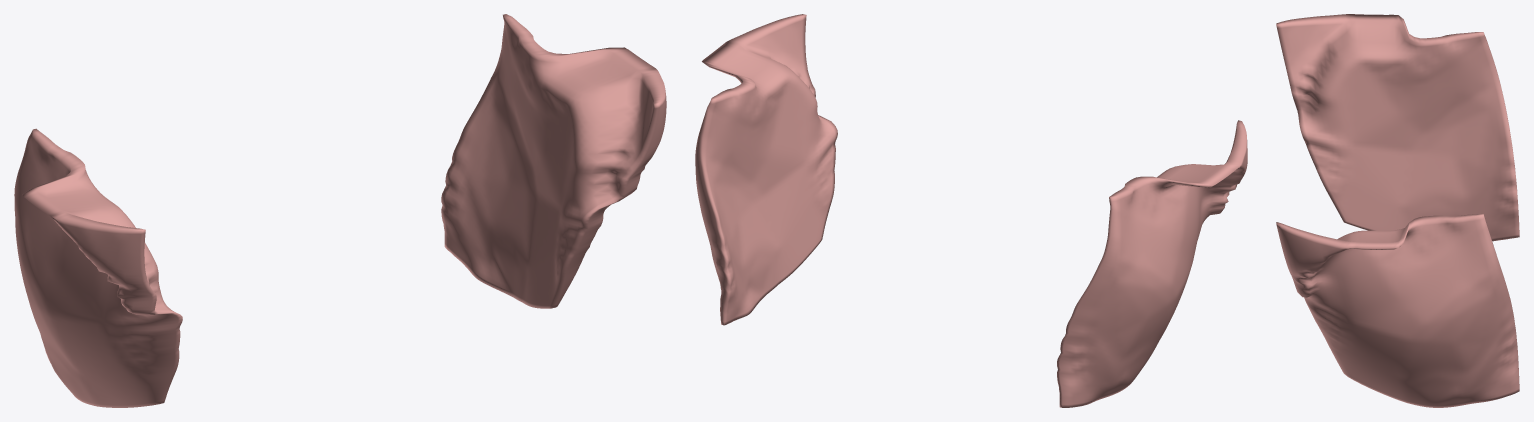
Rendered from masseter.glb.
The picture shows the model from 3 angles, left to right: view 1: azimuth 30°, elevation 25°; view 2: azimuth 150°, elevation 25°; view 3: azimuth 270°, elevation 25°; orthographic projection. The views are drawn at different scales.
Visible parts, largest first — view 1: masseter_L, masseter_R; view 2: masseter_L, masseter_R; view 3: masseter_R, masseter_L.
Boxes of the visible parts, x1,y1,x2,y2 form: masseter_L: [441, 14, 666, 308]; masseter_R: [14, 128, 182, 407]; masseter_L: [695, 14, 837, 325]; masseter_R: [1057, 120, 1247, 407]; masseter_R: [1276, 14, 1519, 241]; masseter_L: [1276, 213, 1519, 407].
Size of the model in its own units: 0.1228 by 0.0487 by 0.054.
